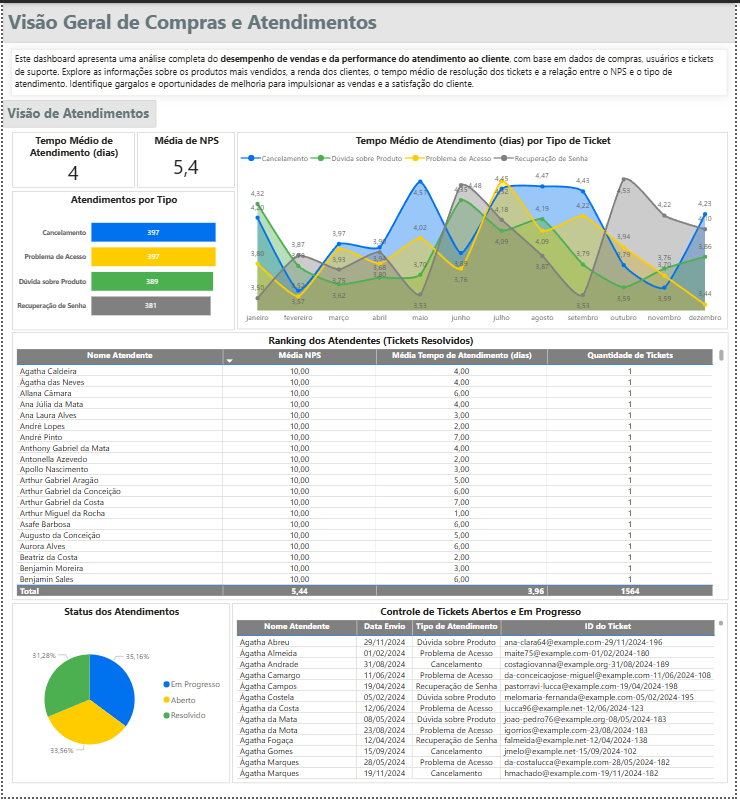

What the dashboard file says about the page in this screenshot:
{"tool":"powerbi","page":{"name":"Visão Geral de Atendimentos","canvas":[1200,1300],"ordinal":1},"visuals":[{"type":"textbox","box":[0,0,1280,65.2],"z":0},{"type":"textbox","box":[13.7,74.8,1172.6,76.6],"z":1000},{"type":"textbox","box":[0,159,251,45],"z":2000},{"type":"card","title":"Tempo Médio de Atendimento (dias)","fields":{"Values":["Avg(zendesk_api.dias_chamado)"]},"box":[14,212,201,91],"z":3000},{"type":"card","title":"Média de NPS","fields":{"Values":["Avg(zendesk_api.nps)"]},"box":[219,212,160,91],"z":4000},{"type":"areaChart","title":"Tempo Médio de Atendimento (dias) por Tipo de Ticket","fields":{"Category":["Calendario.Date.Variation.Hierarquia de datas.Mês"],"Series":["zendesk_api.tipo_atendimento"],"Y":["Avg(zendesk_api.dias_chamado)"]},"box":[383,212,804,323],"z":5000},{"type":"tableEx","title":"Ranking dos Atendentes (Tickets Resolvidos)","fields":{"Values":["zendesk_api.atendente","Avg(zendesk_api.nps)","Avg(zendesk_api.dias_chamado)","zendesk_api.id_ticket"]},"box":[14,539,1173,439],"z":6000},{"type":"clusteredBarChart","title":"Atendimentos por Tipo","fields":{"Y":["Count(zendesk_api.id_ticket)"],"Category":["zendesk_api.tipo_atendimento"]},"box":[14,307,365,228],"z":7000},{"type":"pieChart","title":"Status dos Atendimentos","fields":{"Category":["zendesk_api.status_ticket"],"Y":["Count(zendesk_api.id_ticket)"]},"box":[14,982,357,295],"z":8000},{"type":"tableEx","title":"Controle de Tickets Abertos e Em Progresso","fields":{"Values":["zendesk_api.atendente","zendesk_api.data_envio","zendesk_api.tipo_atendimento","zendesk_api.id_ticket"]},"box":[375,982,812,295],"z":9000}]}

Visuals, with their boxes in screenshot pixels (x1, y1, x2, y2), scaled from the page's 1200x1300 canvas onto the 740x801 screenshot:
textbox: [0, 0, 739, 40]
textbox: [8, 46, 732, 93]
textbox: [0, 98, 155, 126]
"Tempo Médio de Atendimento (dias)" card: [9, 131, 133, 187]
"Média de NPS" card: [135, 131, 234, 187]
"Tempo Médio de Atendimento (dias) por Tipo de Ticket" areaChart: [236, 131, 732, 330]
"Ranking dos Atendentes (Tickets Resolvidos)" tableEx: [9, 332, 732, 603]
"Atendimentos por Tipo" clusteredBarChart: [9, 189, 234, 330]
"Status dos Atendimentos" pieChart: [9, 605, 229, 787]
"Controle de Tickets Abertos e Em Progresso" tableEx: [231, 605, 732, 787]
